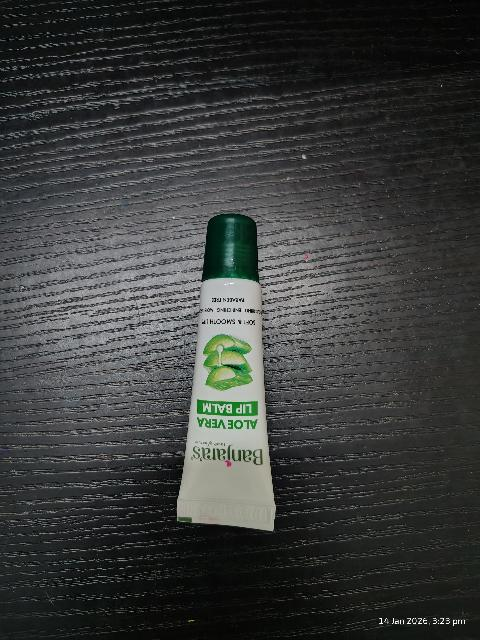banjaras lipbam: (181, 214, 273, 530)
